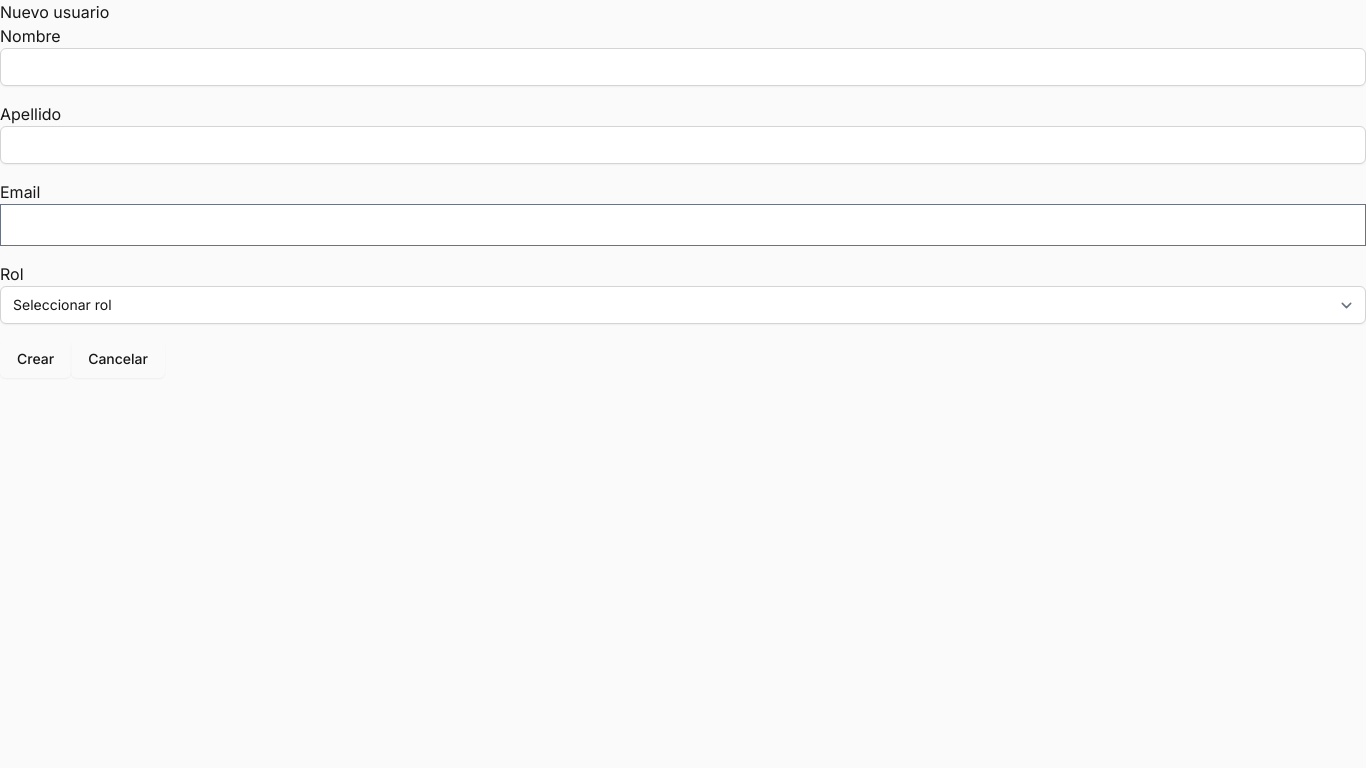
Test: UsuarioCreateModal › shows email validation error for invalid email
The image size is (1366, 768).
Type "Juan" into the field labelled "Nombre" at (683, 67), box [0,48,1365,86]
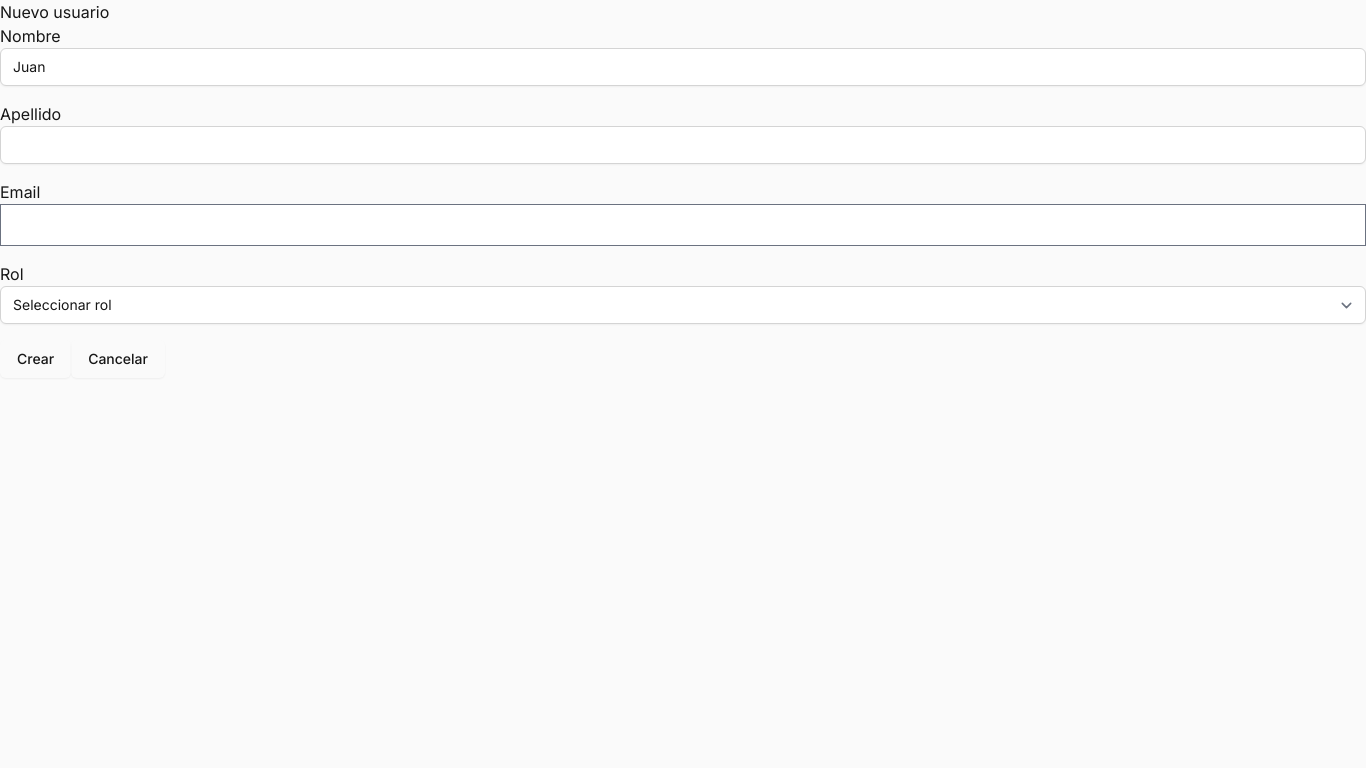
Type "Pérez" into the field labelled "Apellido" at (683, 145), box [0,126,1365,164]
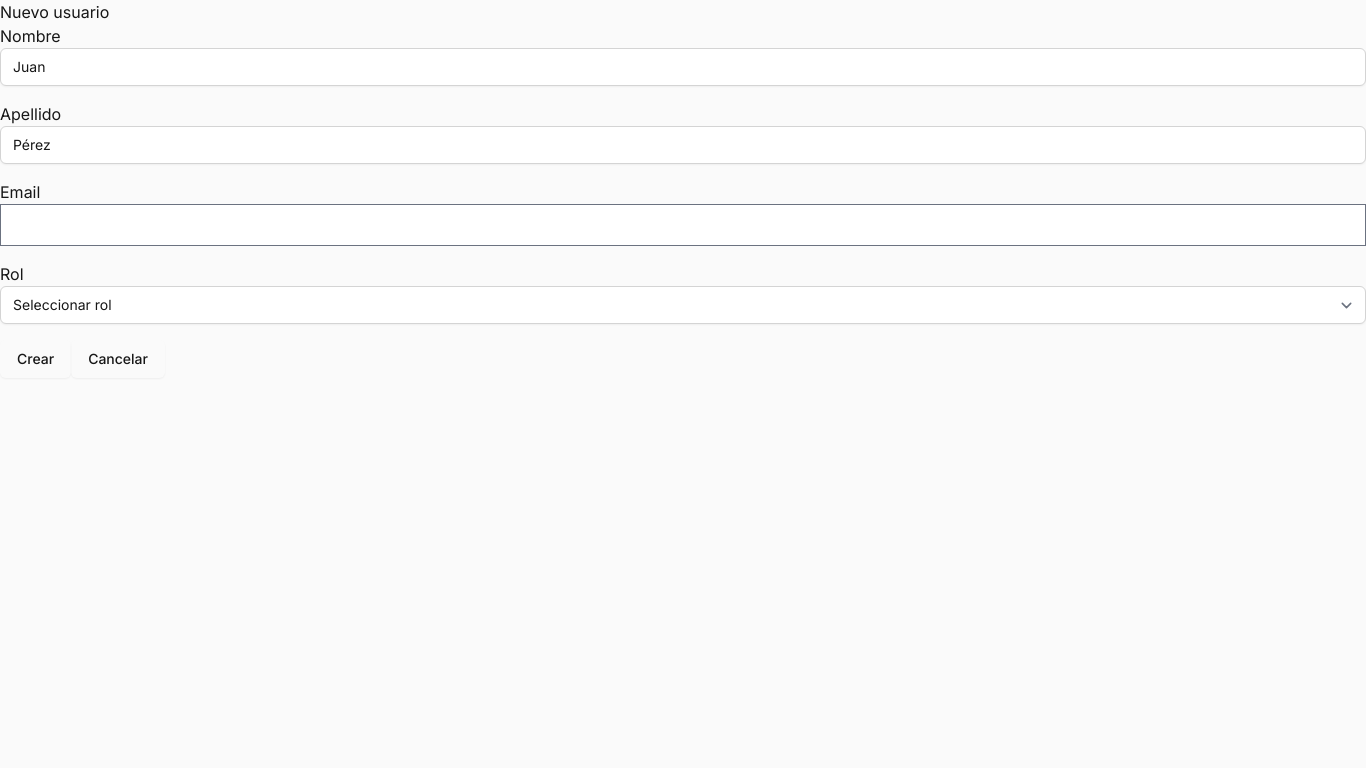
Type "not-an-email" into the field labelled "Email" at (683, 225), box [0,204,1365,246]
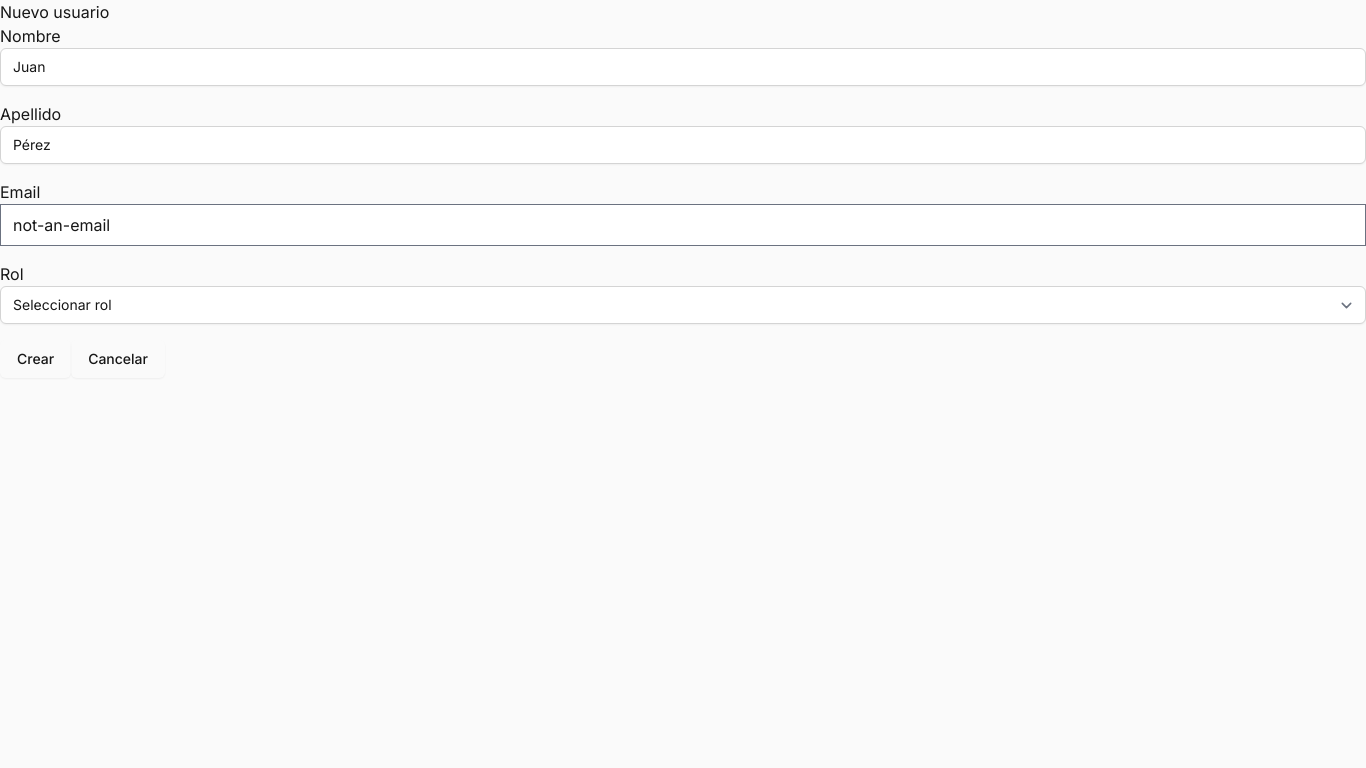
Select "Administrador" in the dropdown labelled "Rol" at (683, 305), box [0,286,1365,324]
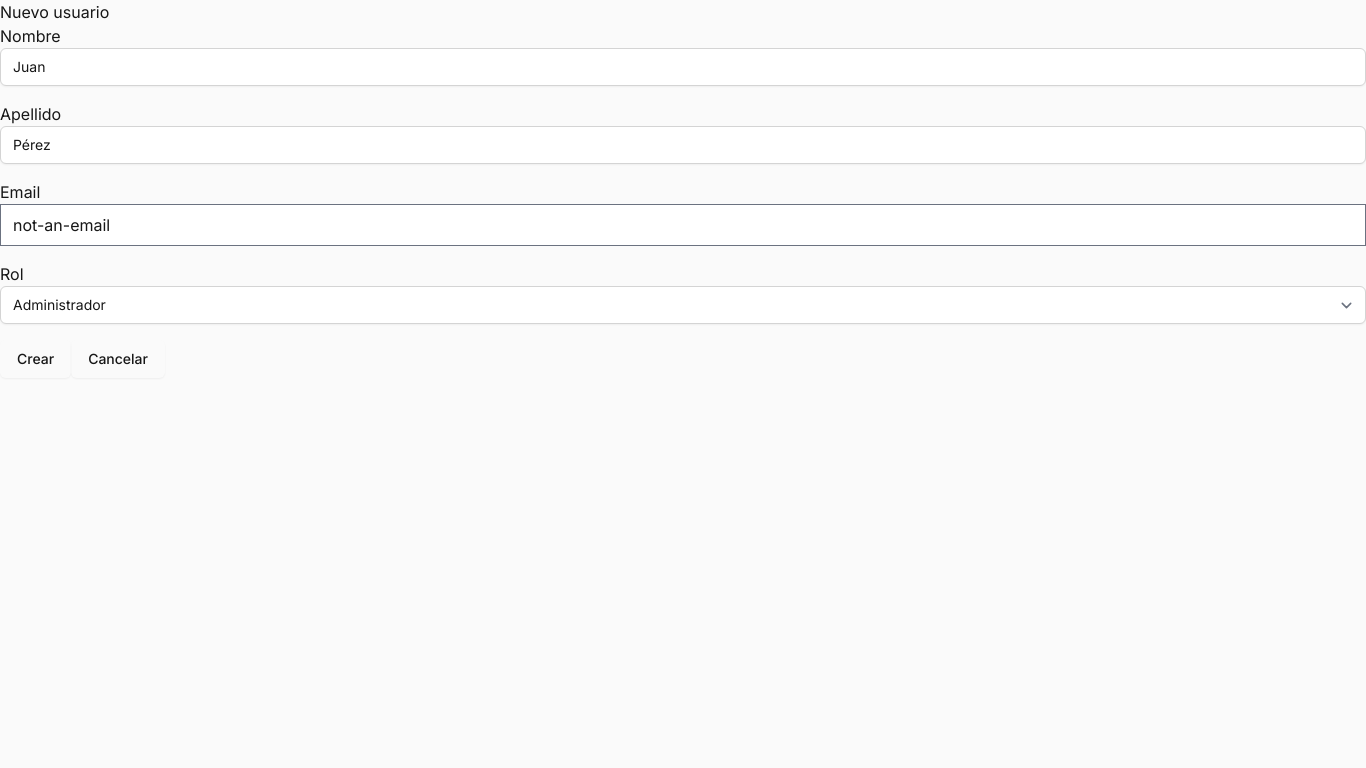
Click the button "Crear" at (36, 359), box [0,340,71,378]
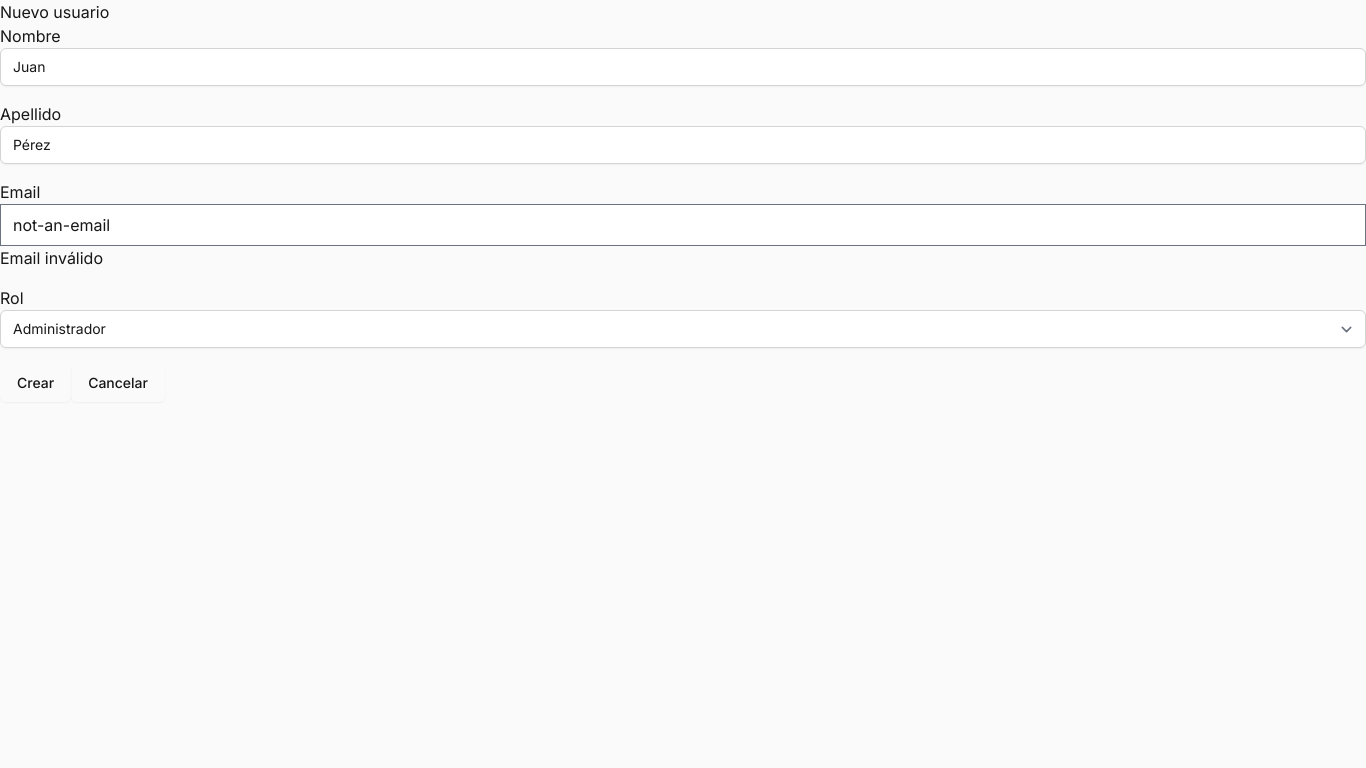
Result: the text "Email inválido" is shown at [0,248,103,268]
